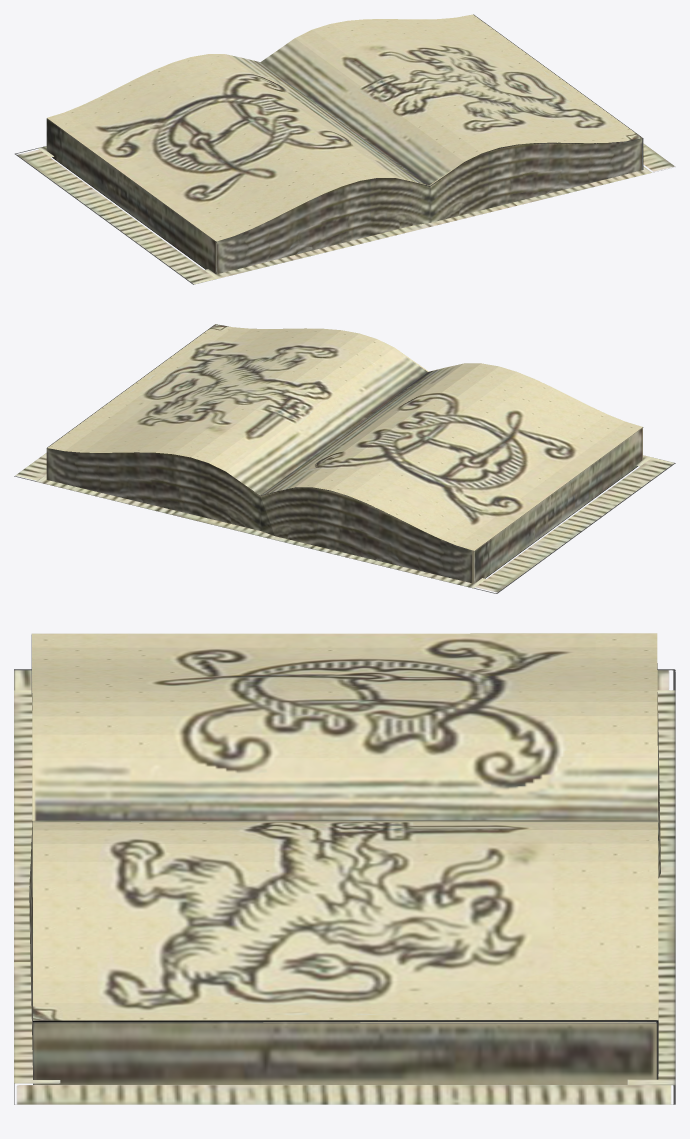
File: book1.dae
3 renders of one model, top to bottom at view 1: azimuth 30°, elevation 25°; view 2: azimuth 150°, elevation 25°; view 3: azimuth 270°, elevation 25°, orthographic. The views are drawn at different scales.
Visible parts, largest first — view 1: Cube_005; view 2: Cube_005; view 3: Cube_005.
Boxes of the visible parts, x1,y1,x2,y2 form: Cube_005: (15,14,675,284); Cube_005: (14,324,675,593); Cube_005: (14,633,675,1104).
Bounding box in the file's own units: 6.59 × 4.23 × 0.9009.
Materials: 1 (1 with a texture image).
